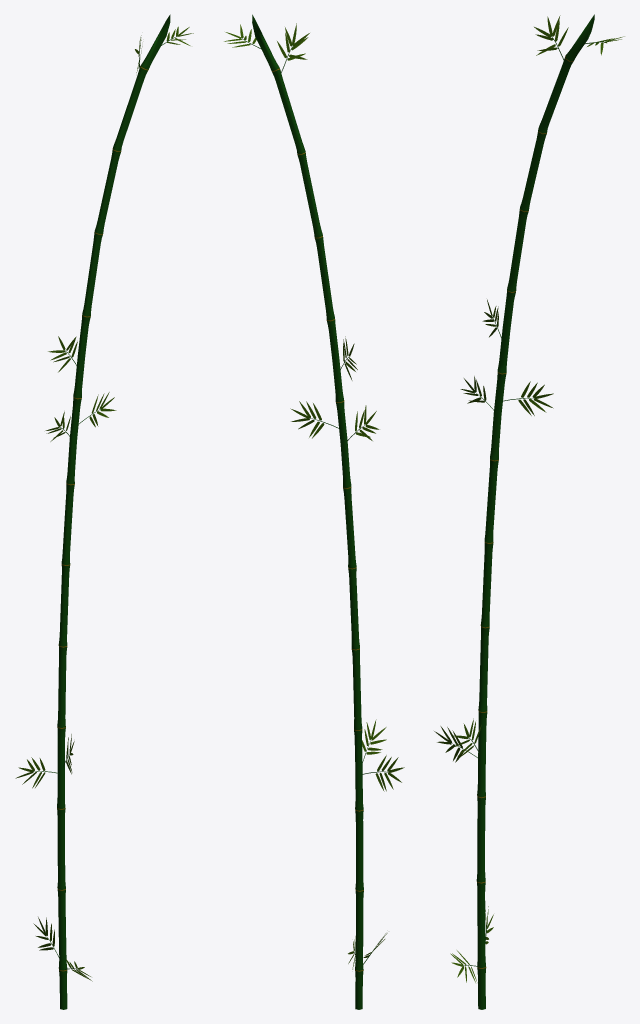
Rendered from BambooCurvedBv1.fbx.
3 renders of one model, left to right at view 1: azimuth 30°, elevation 25°; view 2: azimuth 150°, elevation 25°; view 3: azimuth 330°, elevation 25°, orthographic. The views are drawn at different scales.
Visible parts, largest first — view 1: BambooB.001; view 2: BambooB.001; view 3: BambooB.001.
Part boxes in pixels (<box>): BambooB.001: <box>15,14,193,1009</box>; BambooB.001: <box>224,14,404,1009</box>; BambooB.001: <box>434,14,624,1009</box>.
Size of the model in its own units: 229 by 1197 by 107.
